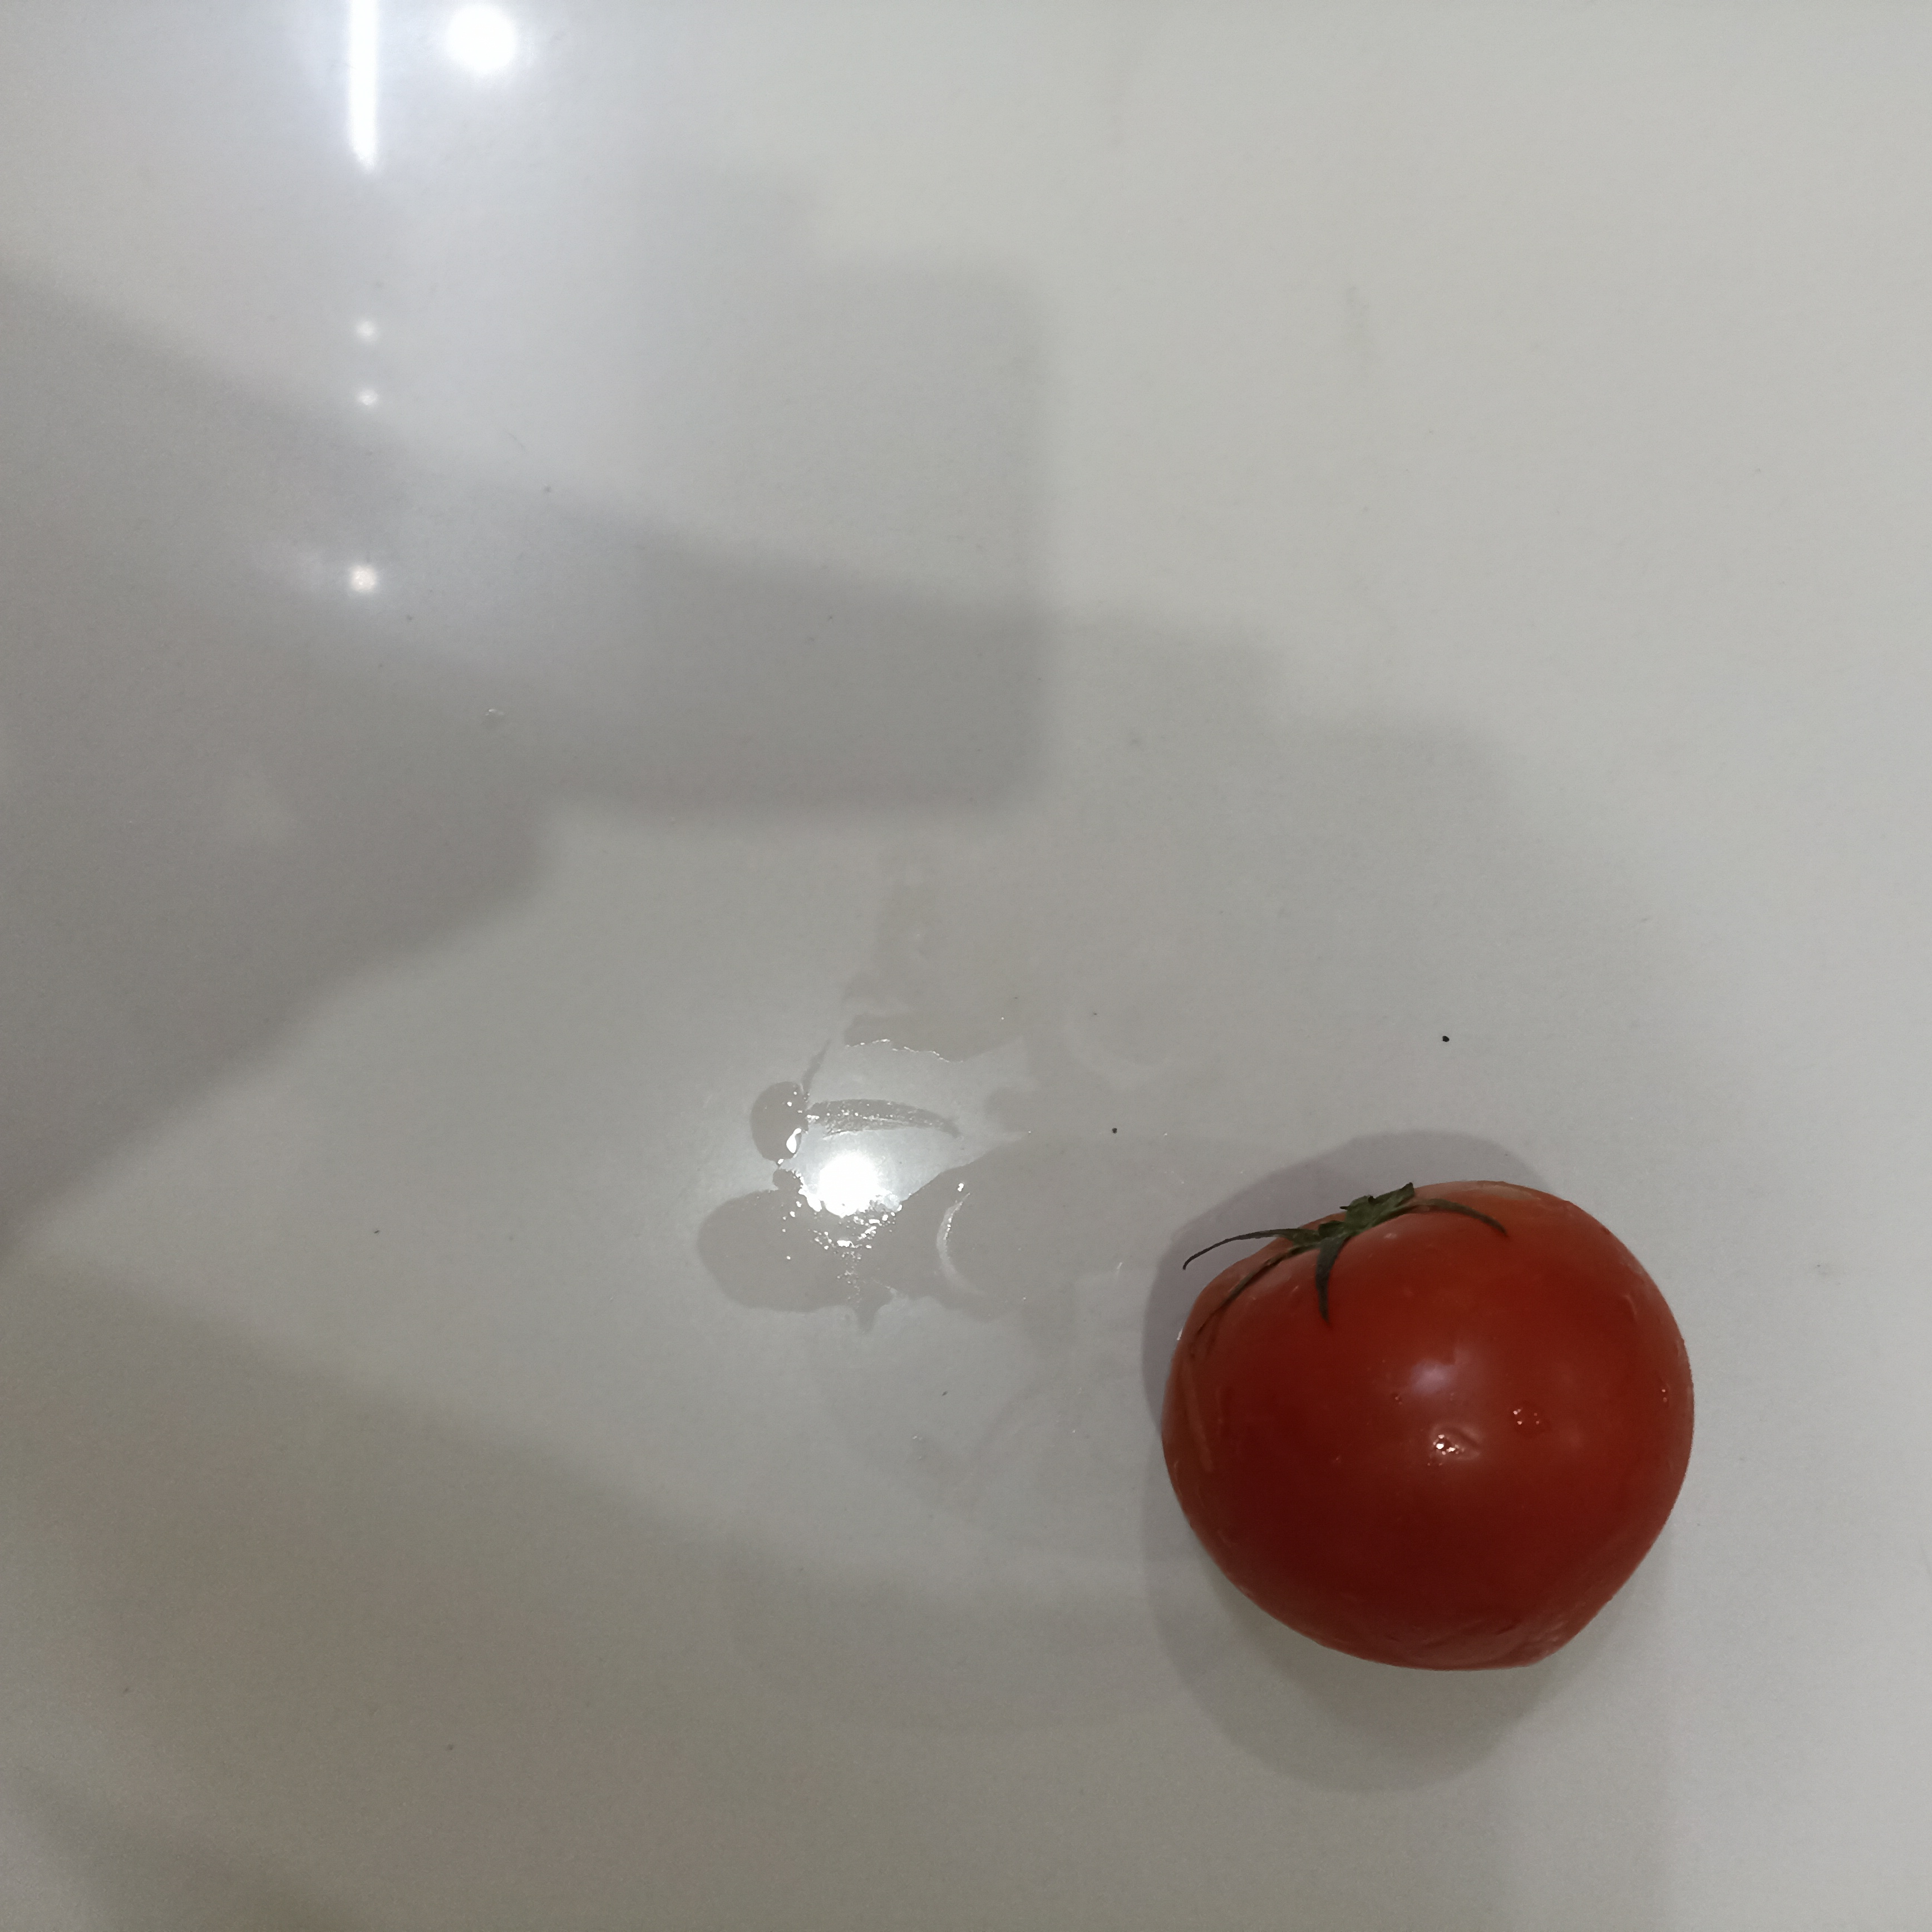Ca chua: (1162, 1173, 1695, 1670)
